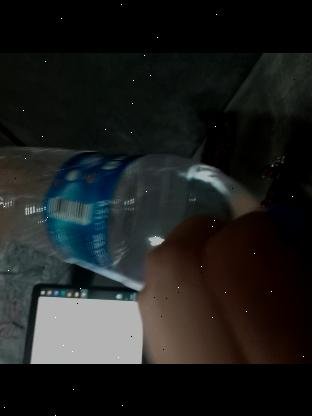Plastic Bottle: (0, 130, 306, 291)
